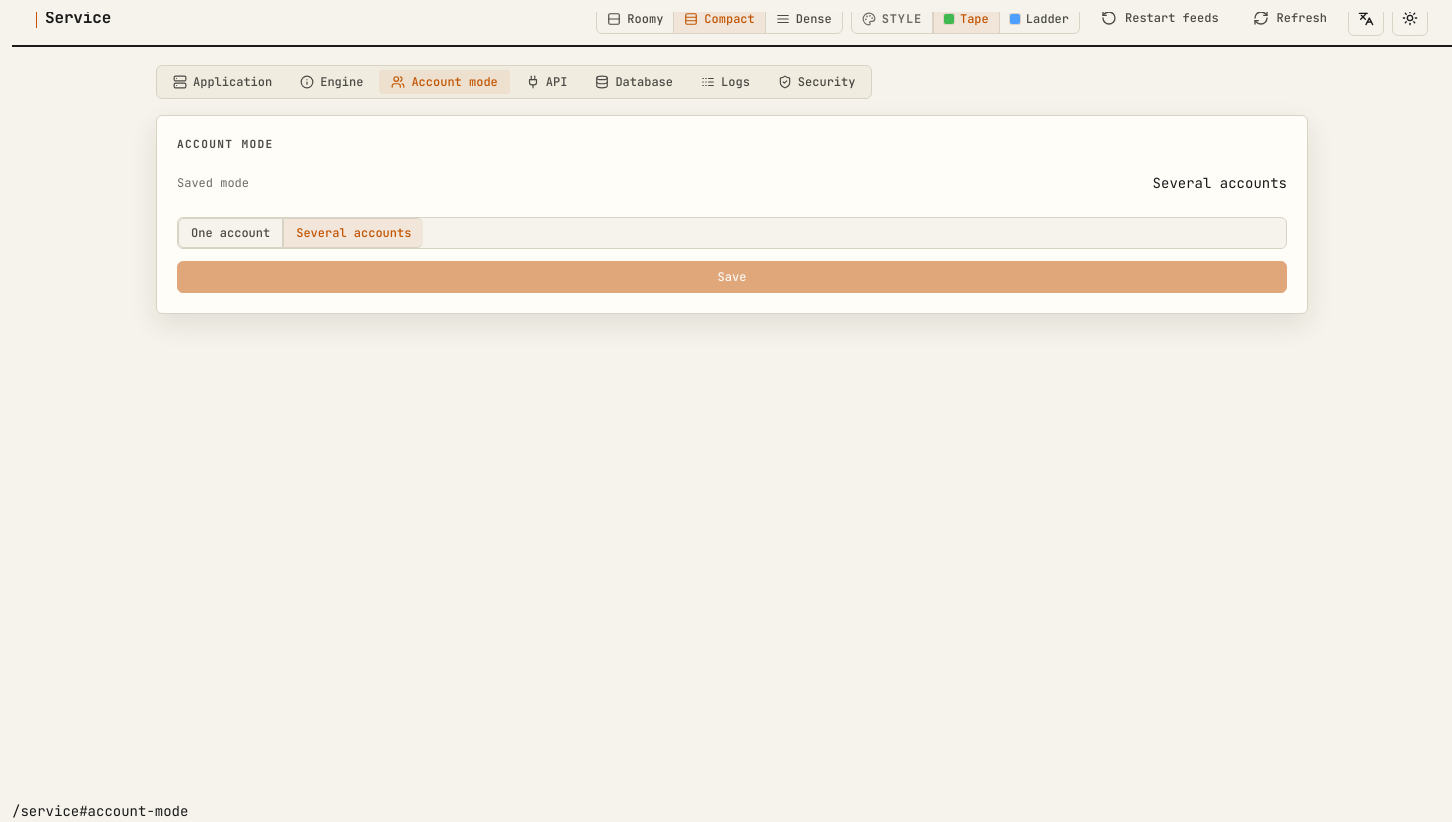
Test case: Service › shows the account mode tab from the hash and clears it on another tab
The width and height of the screenshot is (1452, 822).
(page scrolled)
Check: the text titled "Several accounts" is shown, box [1153,173,1287,193]
Check: the element named "Account mode" is shown, box [177,217,1287,249]
Step 1. Click the tab "Application" → (223, 82), box [161,70,284,94]
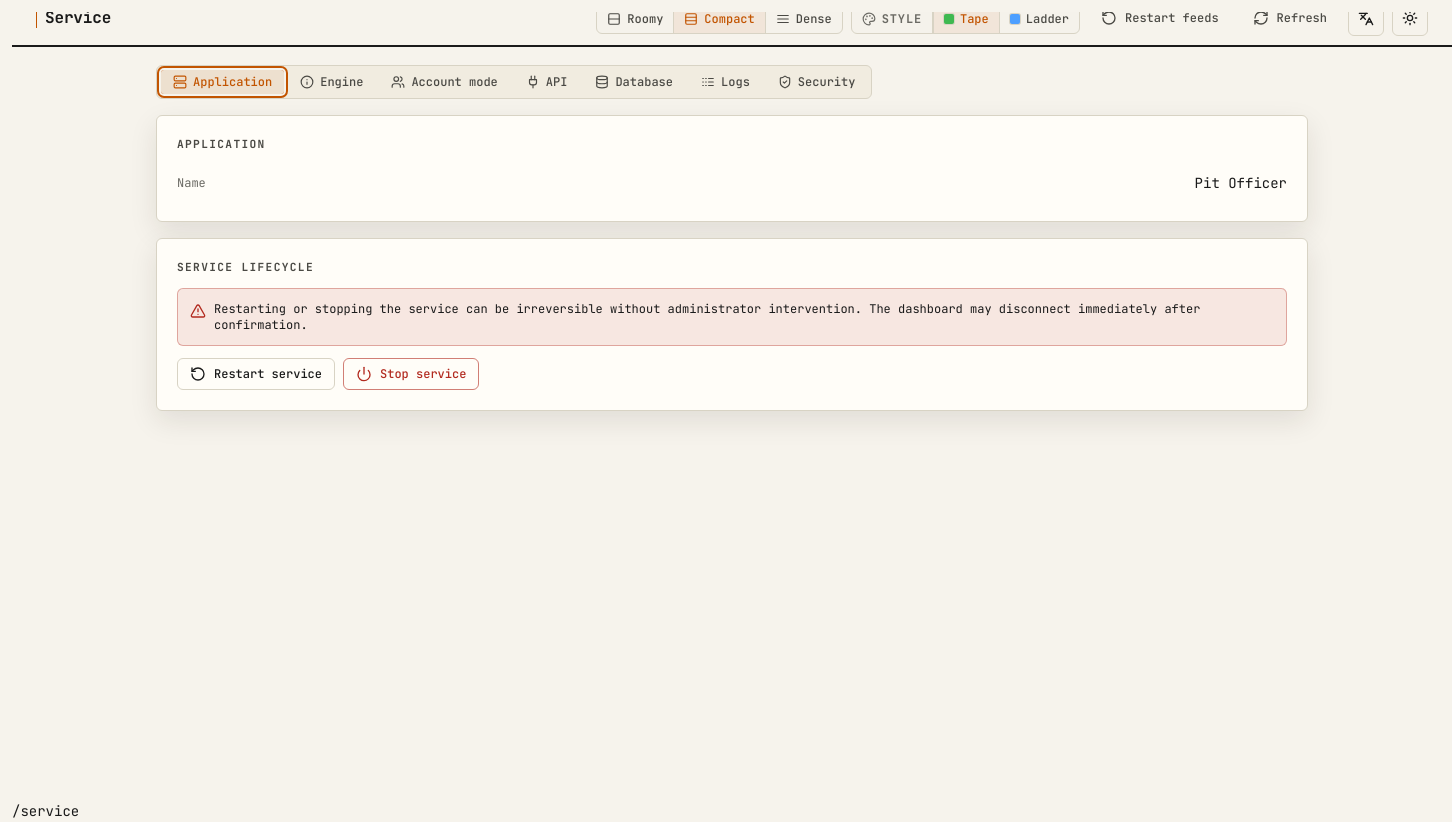
Check: the text named "Current location" reads "/service", box [12,802,79,820]
Check: the panel "Application" is shown, box [156,115,1308,411]
